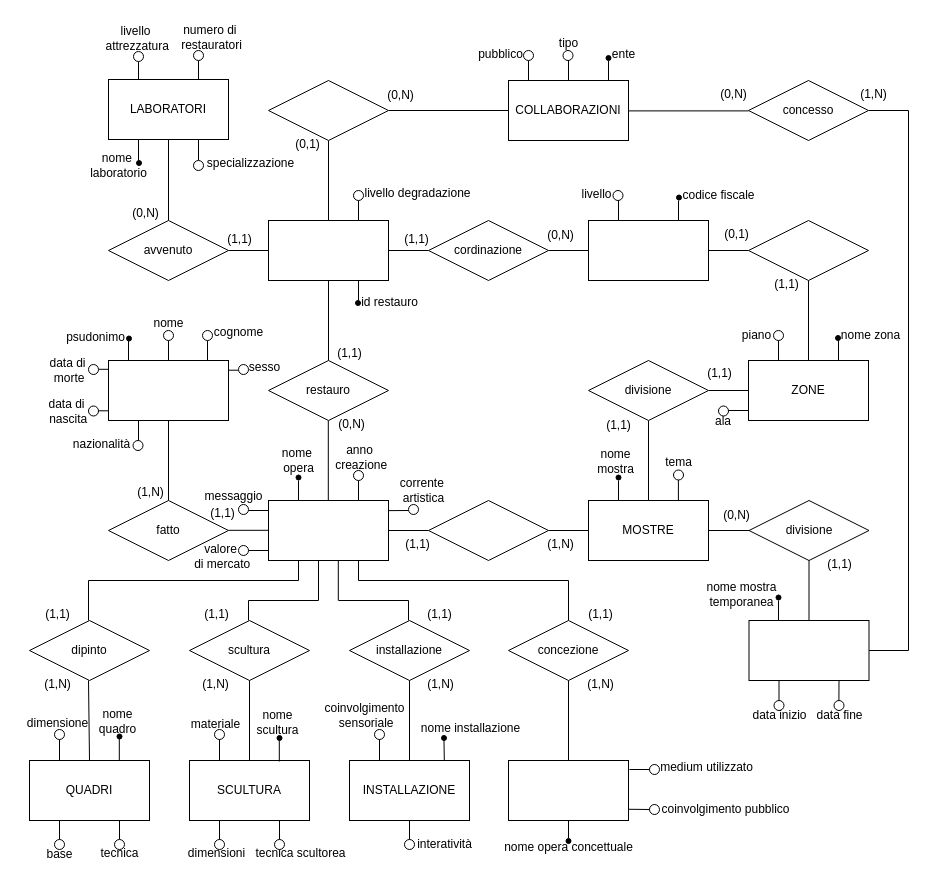
Image size: 927x886. Some labels were removed from this diagram. Each missing label, with the box of its shape:
aiuto: (268, 80, 388, 140)
ARTISTI: (108, 360, 228, 420)
CONCETTUALE: (508, 760, 628, 820)
esposizione: (428, 500, 548, 560)
guardato: (748, 220, 868, 280)
OPERE: (268, 500, 388, 560)
RESPONSABILI: (588, 220, 708, 280)
RESTAURI: (268, 220, 388, 280)
TEMPORANEE: (748, 620, 869, 680)
